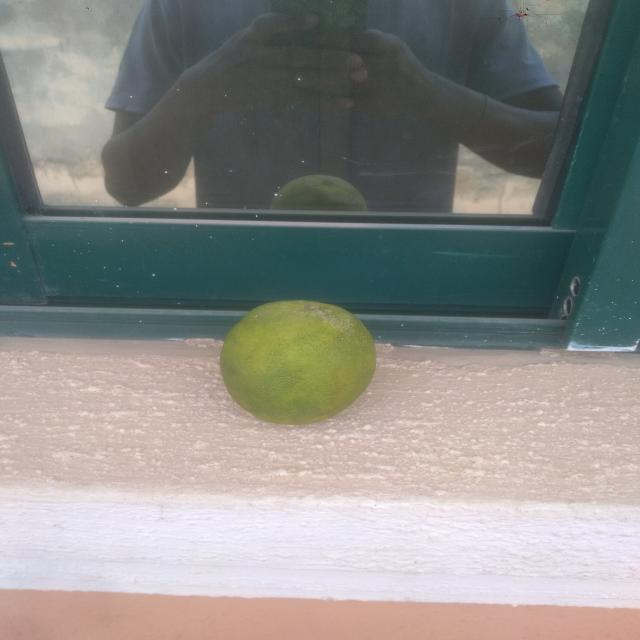Unripe: (211, 292, 388, 426)
